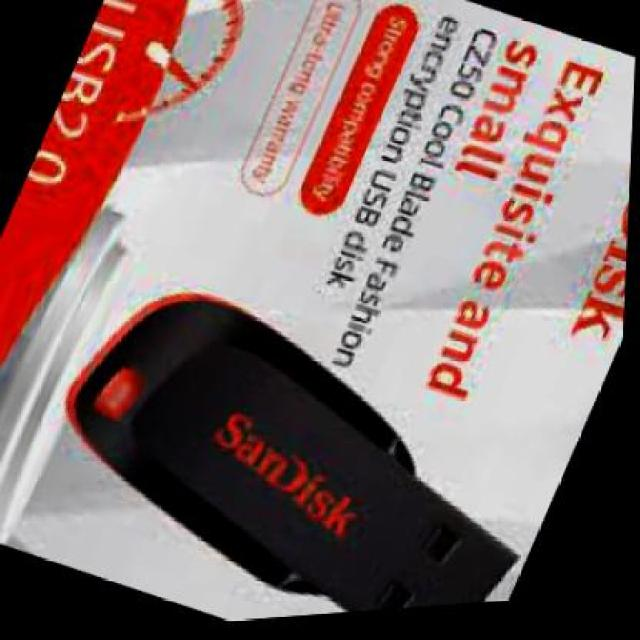Flashdisk: (1, 234, 593, 638)
